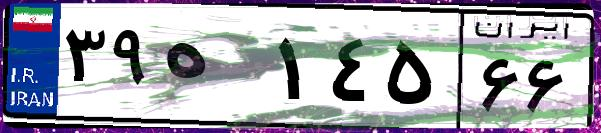1: (270, 28, 330, 110)
3: (57, 26, 110, 100)
4: (330, 28, 385, 110)
5: (385, 28, 445, 110)
6: (475, 38, 525, 113), (525, 38, 570, 115)
9: (110, 28, 158, 98)
ه: (158, 20, 270, 120)
